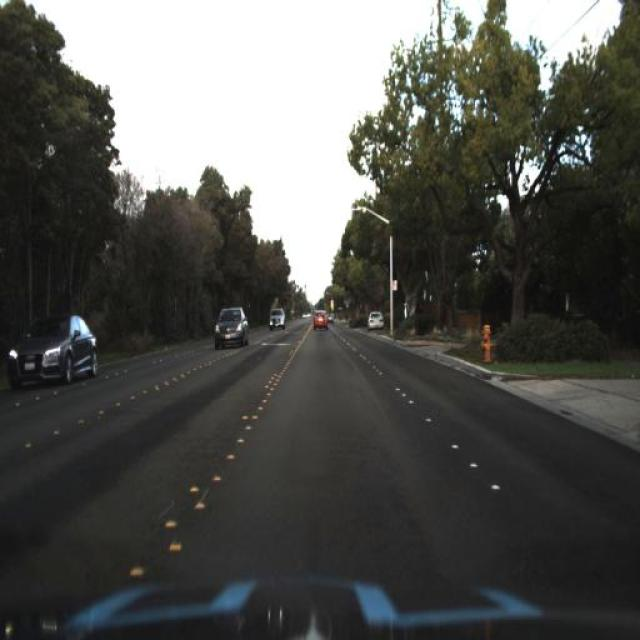car: (8, 312, 102, 392), (207, 302, 256, 354), (264, 302, 290, 334), (309, 304, 330, 332), (366, 306, 386, 332)
